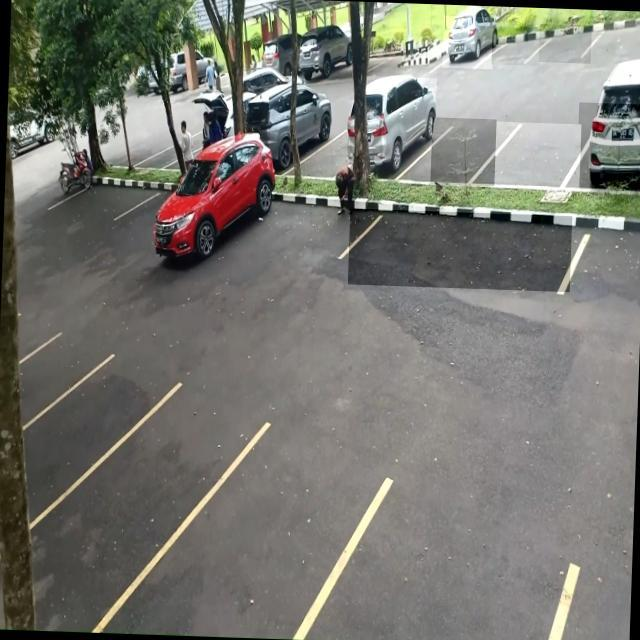empty: (348, 208, 572, 292), (490, 121, 581, 190), (431, 117, 496, 186), (538, 23, 592, 64), (491, 26, 540, 65)
occupied: (362, 76, 437, 180), (576, 102, 640, 189), (442, 15, 494, 69)
